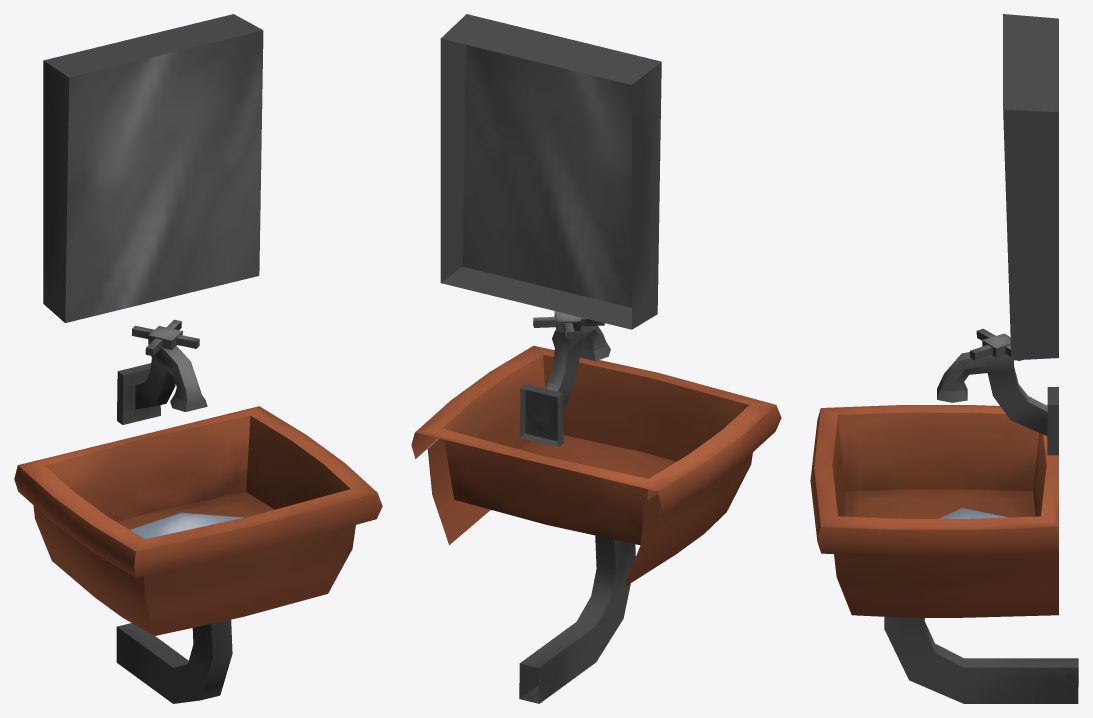
The model's file is Primera_Slums_Props _Sink.fbx.
3 renders of one model, left to right at view 1: azimuth 30°, elevation 25°; view 2: azimuth 150°, elevation 25°; view 3: azimuth 270°, elevation 25°, orthographic.
Visible parts, largest first — view 1: Primera_Slums_Props _Sink; view 2: Primera_Slums_Props _Sink; view 3: Primera_Slums_Props _Sink.
Boxes of the visible parts, bbox=[...] form: Primera_Slums_Props _Sink: bbox=[14, 14, 382, 703]; Primera_Slums_Props _Sink: bbox=[411, 14, 781, 703]; Primera_Slums_Props _Sink: bbox=[810, 14, 1078, 703].
Size of the model in its own units: 217 by 504 by 192.
1 material, 1 textured.
